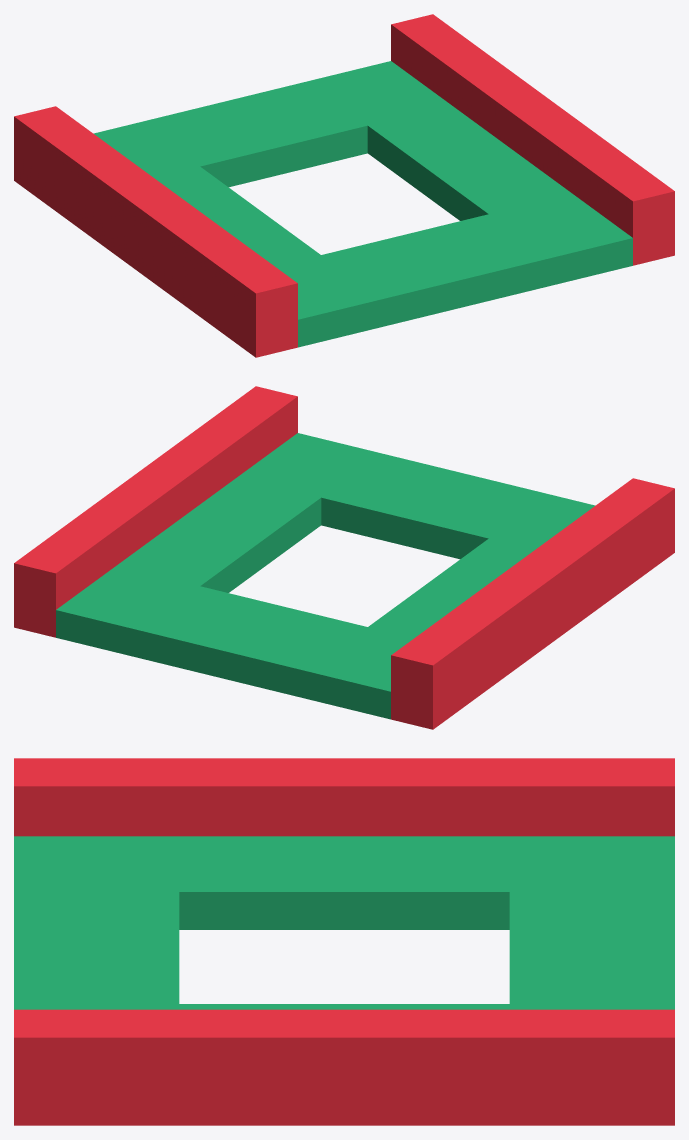
The model's file is gap.fbx.
The picture shows the model from 3 angles, top to bottom: view 1: azimuth 30°, elevation 25°; view 2: azimuth 150°, elevation 25°; view 3: azimuth 270°, elevation 25°; orthographic projection. The views are drawn at different scales.
Visible parts, largest first — view 1: gap; view 2: gap; view 3: gap.
Part boxes in pixels (x1,y1,x2,y2): gap: (14, 14, 674, 357); gap: (14, 386, 674, 729); gap: (14, 758, 674, 1125).
Bounding box in the file's own units: 10 × 1.47 × 10.
